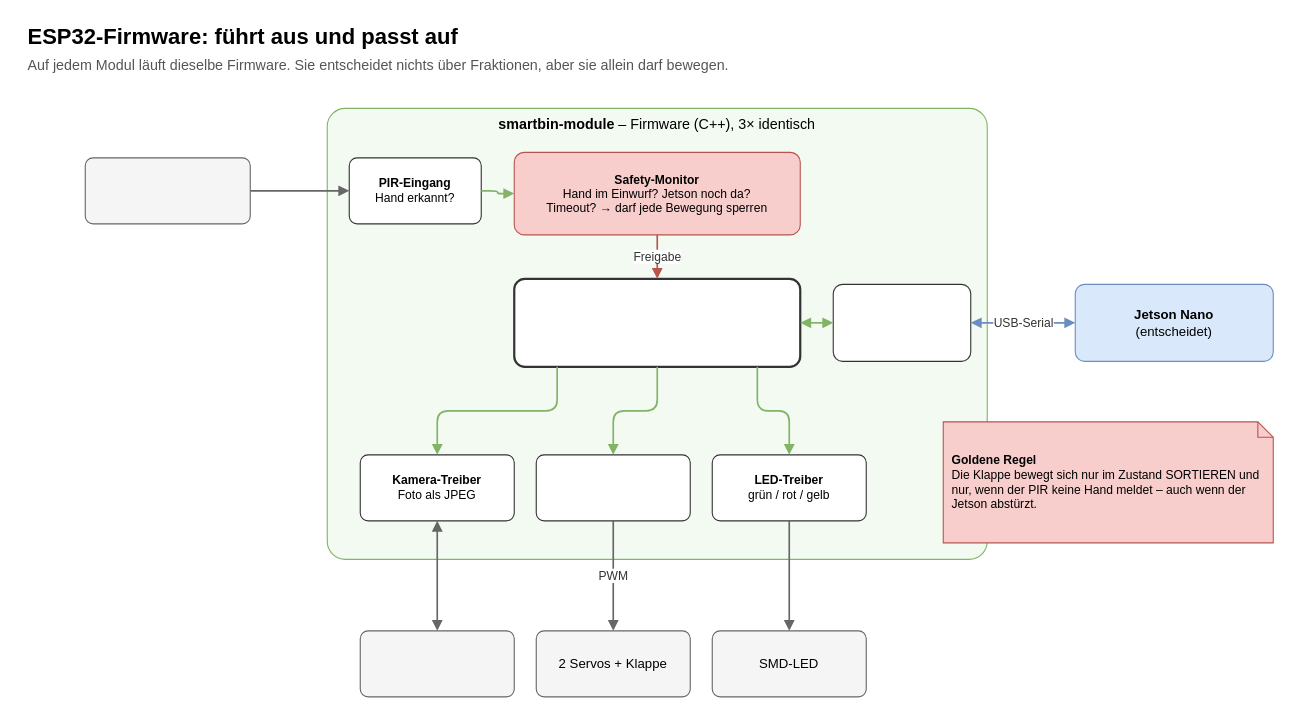
Image size: 1313x716. Some labels were removed from this diagram. The shapes that lost their labels are listed below. From the top down, each one's centre as x and y in pixels, then its label:
At (167,190): "PIR-Sensor".
At (657,322): "Zustandsautomat BEREIT → ERKANNT → WARTEN → SORTIEREN → BEREIT (Seite 6)".
At (901,322): "Protokoll-Link Frames, CRC, Heartbeat".
At (612,487): "Servo-Treiber Klappe kippen".
At (436,663): "Kamera OV2640".
